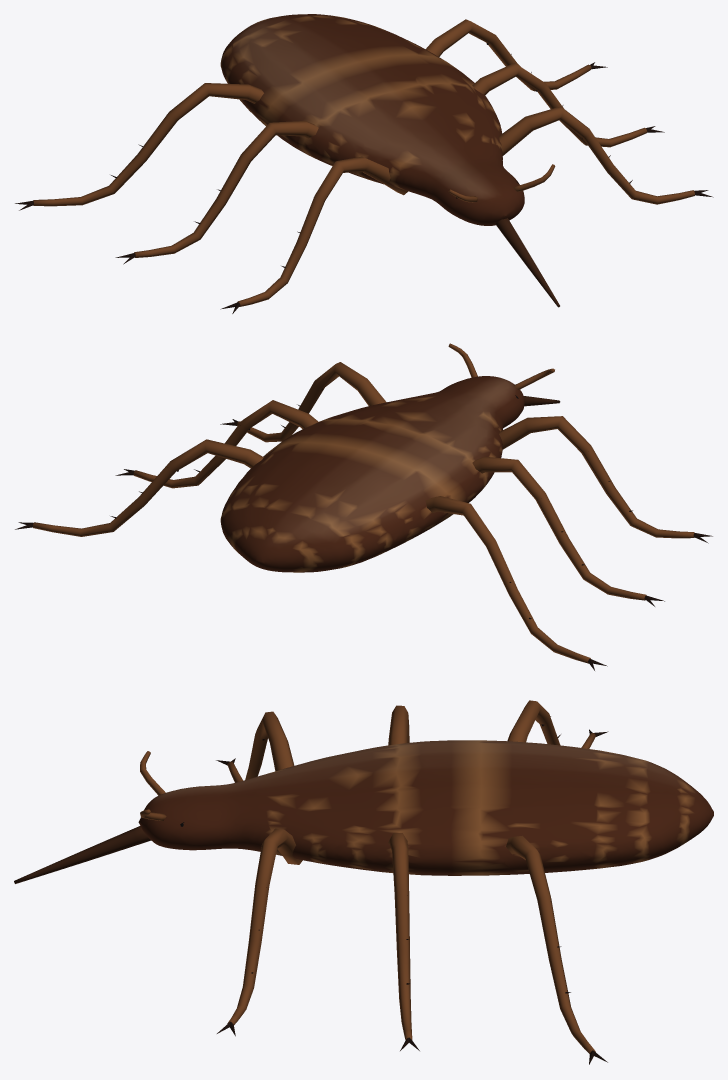
The model's file is Pseudopulex.fbx.
3 renders of one model, top to bottom at view 1: azimuth 30°, elevation 25°; view 2: azimuth 150°, elevation 25°; view 3: azimuth 270°, elevation 25°, orthographic. The views are drawn at different scales.
Parts seen in each view (by area): view 1: Pseudopulex; view 2: Pseudopulex; view 3: Pseudopulex.
Boxes of the visible parts, bbox=[...] form: Pseudopulex: bbox=[15, 14, 713, 313]; Pseudopulex: bbox=[15, 343, 712, 670]; Pseudopulex: bbox=[14, 700, 713, 1064].
Bounding box in the file's own units: 1.36 × 0.2528 × 1.2.
